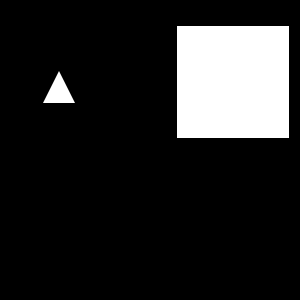circle: (177, 26, 289, 138)
triangle: (43, 71, 75, 103)
